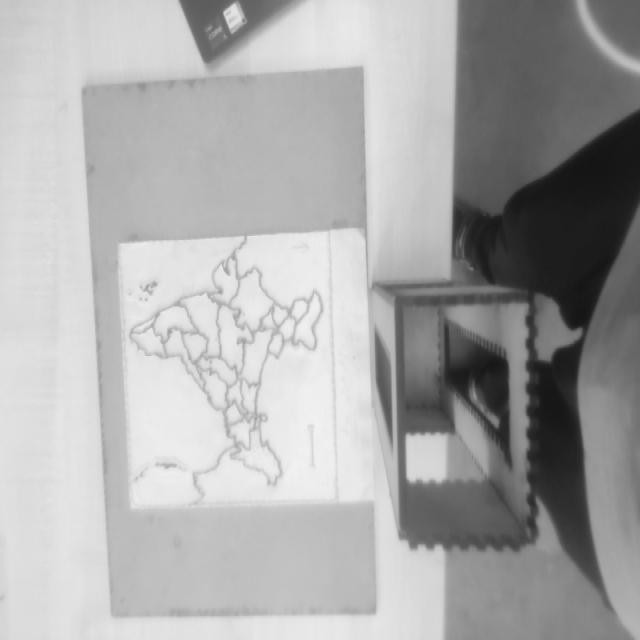map: (118, 231, 338, 508)
